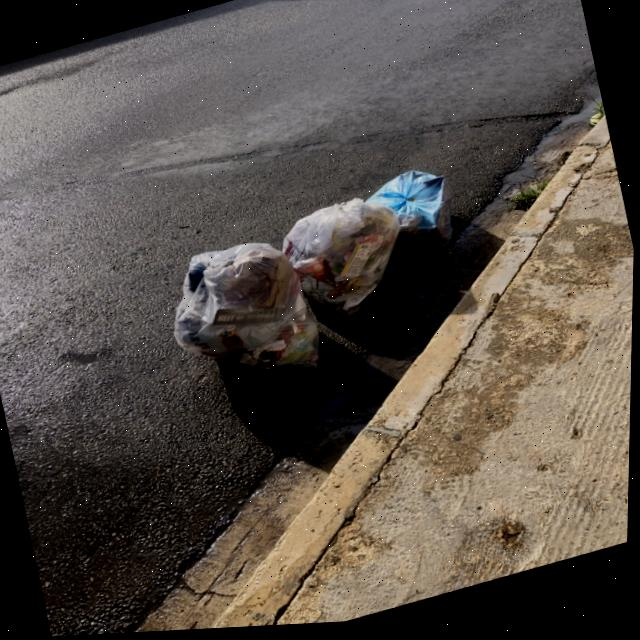Other: (359, 163, 464, 280)
Recycled Waste -Grey or Green Bag-: (154, 224, 335, 414), (279, 190, 418, 335)
